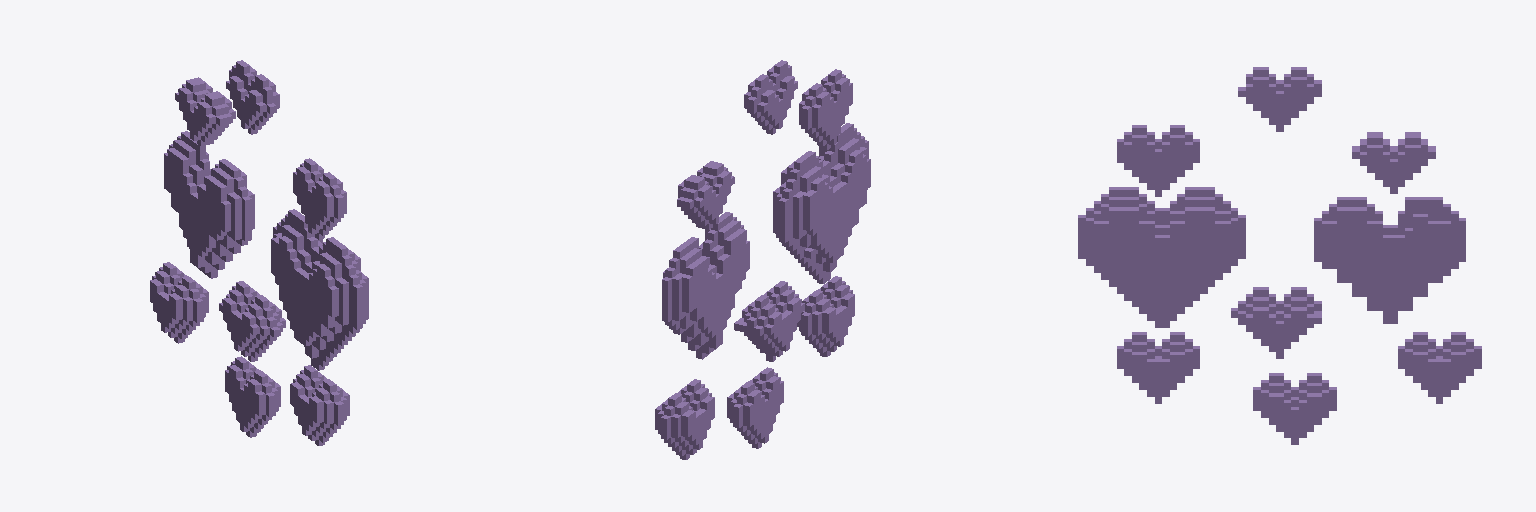
3 renders of one model, left to right at view 1: azimuth 30°, elevation 25°; view 2: azimuth 150°, elevation 25°; view 3: azimuth 270°, elevation 25°, orthographic.
Visible parts, largest first — view 1: Model; view 2: Model; view 3: Model.
Boxes of the visible parts, x1=… form: Model: x1=150, y1=60, x2=368, y2=445; Model: x1=655, y1=60, x2=870, y2=459; Model: x1=1078, y1=67, x2=1481, y2=444.
Bounding box in the file's own units: 3 × 27 × 26.5.
Materials: 1 (1 with a texture image).